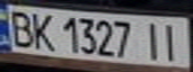1: (57, 14, 81, 54)
2: (93, 16, 115, 57)
3: (75, 15, 96, 56)
7: (112, 17, 139, 59)
B: (3, 7, 36, 48)
I: (157, 20, 187, 62), (139, 19, 166, 61)
K: (27, 9, 57, 52)
